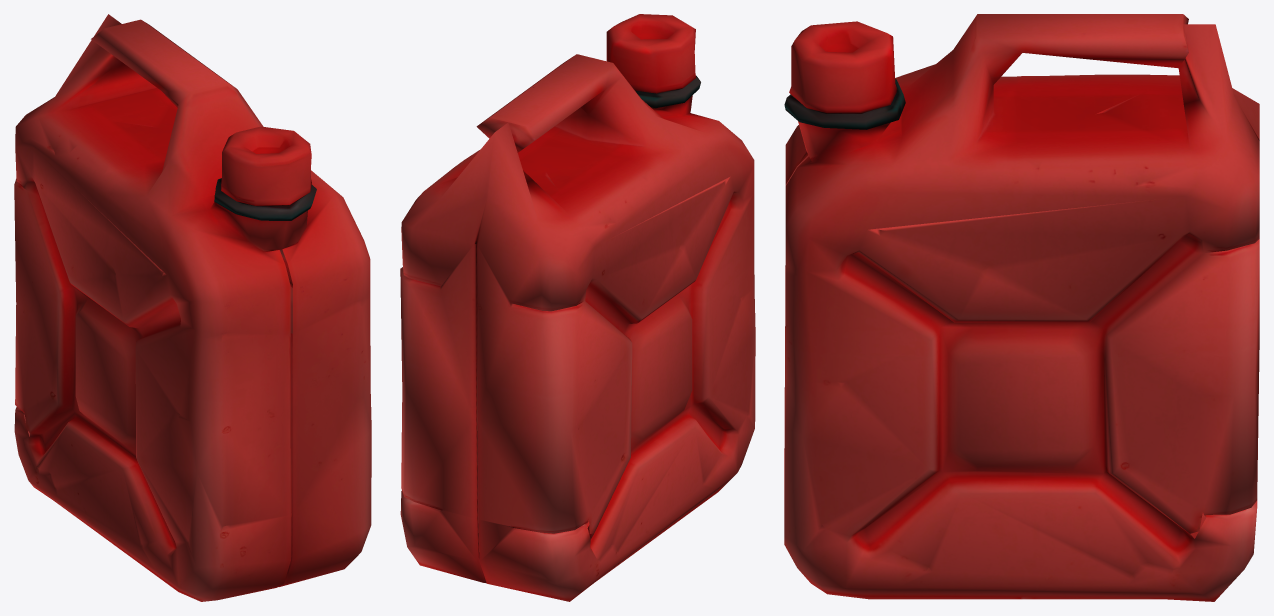
Rendered from garrafa.glb.
3 views of the same model, side by side, from view 1: azimuth 30°, elevation 25°; view 2: azimuth 150°, elevation 25°; view 3: azimuth 270°, elevation 25° (orthographic). The views are drawn at different scales.
Visible parts, largest first — view 1: tripo_node_1781871c-f19b-4130-b5f0-1a1704903f5d; view 2: tripo_node_1781871c-f19b-4130-b5f0-1a1704903f5d; view 3: tripo_node_1781871c-f19b-4130-b5f0-1a1704903f5d.
Boxes of the visible parts, x1=… form: tripo_node_1781871c-f19b-4130-b5f0-1a1704903f5d: x1=14, y1=14, x2=371, y2=601; tripo_node_1781871c-f19b-4130-b5f0-1a1704903f5d: x1=400, y1=14, x2=755, y2=601; tripo_node_1781871c-f19b-4130-b5f0-1a1704903f5d: x1=784, y1=14, x2=1259, y2=601.
Size of the model in its own units: 0.4325 by 0.998 by 0.8043.
1 material, 1 textured.
